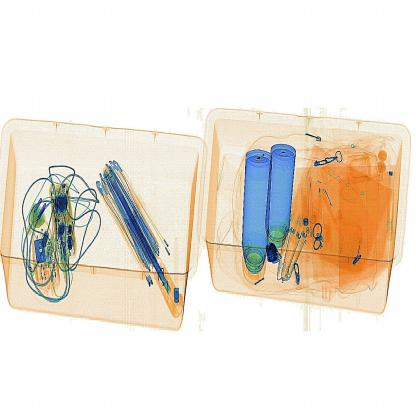scissors: (259, 233, 283, 263)
